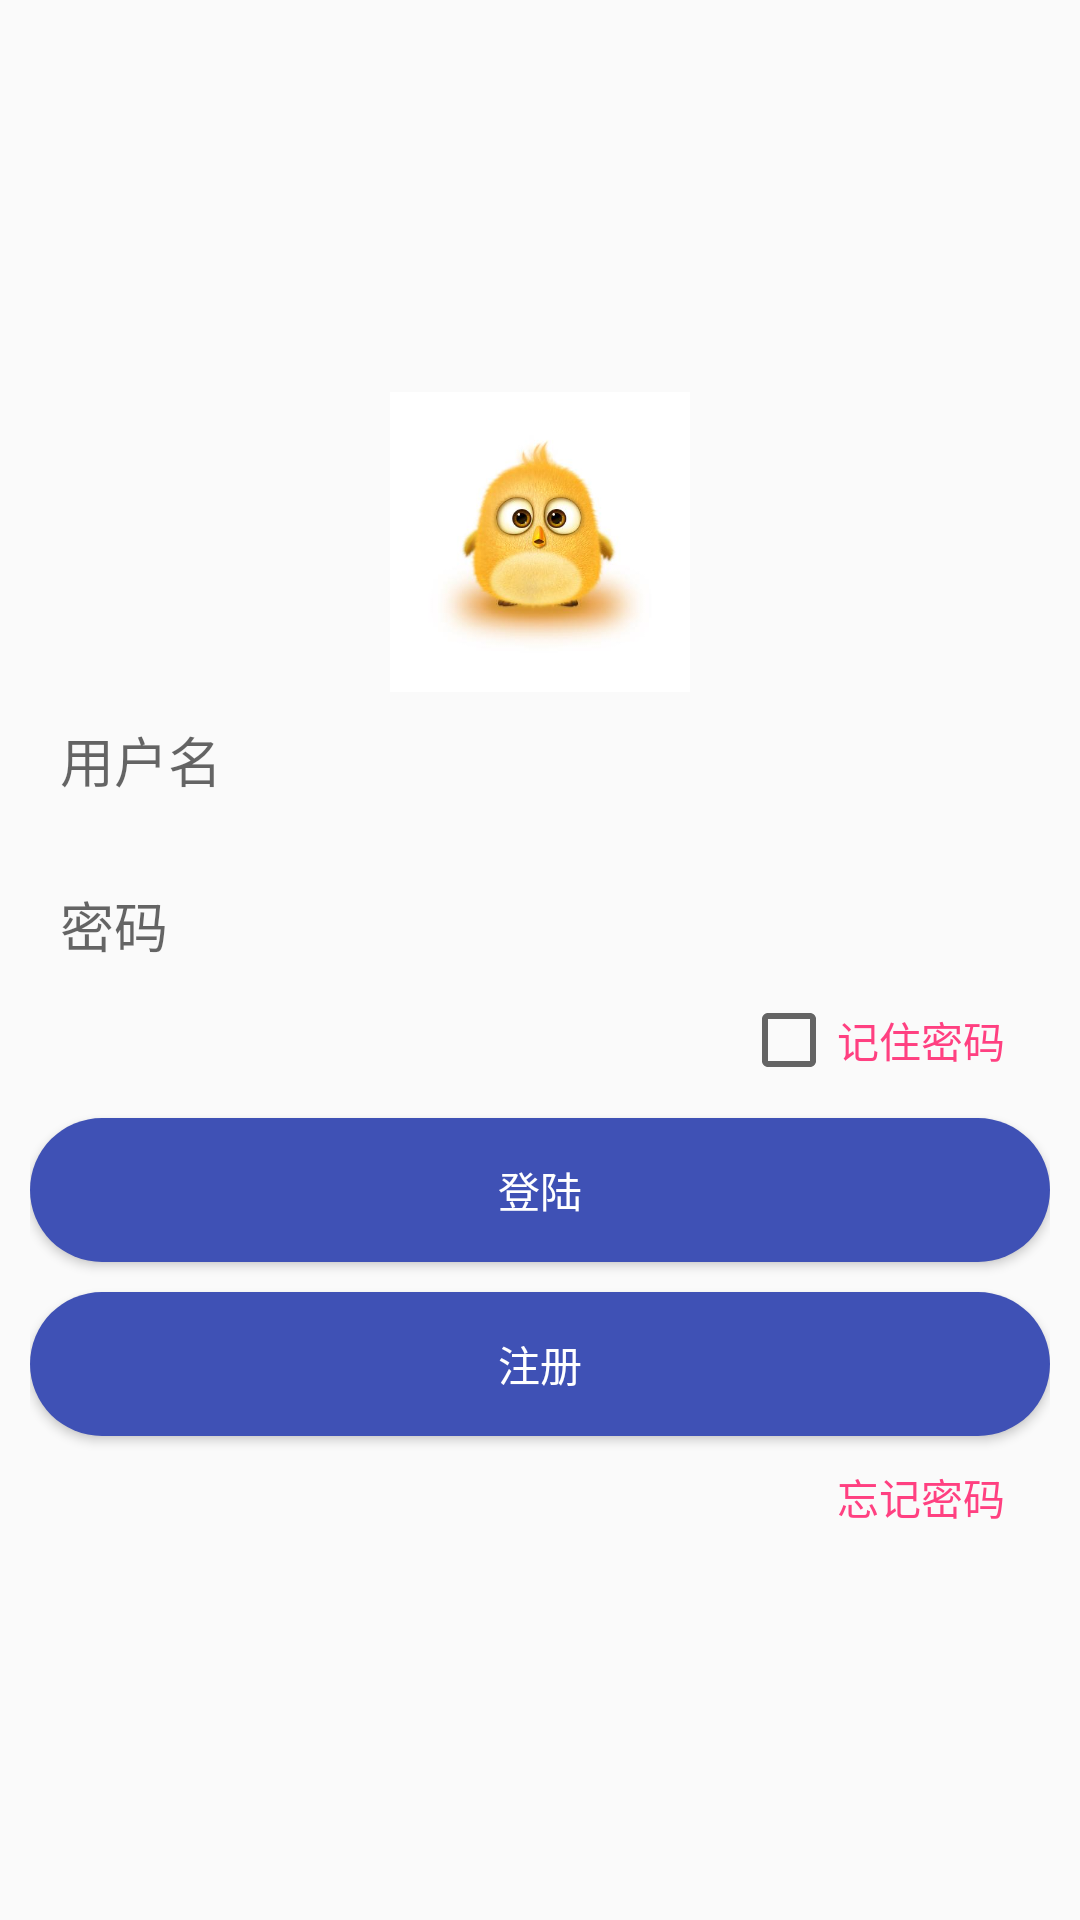

Icon click points for this 1080px×1920px phone screenshot, format (x=x, y=y):
chick: (x=540, y=539)
